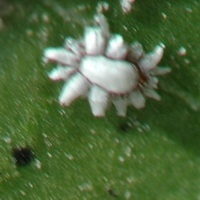insect: (44, 4, 170, 116)
